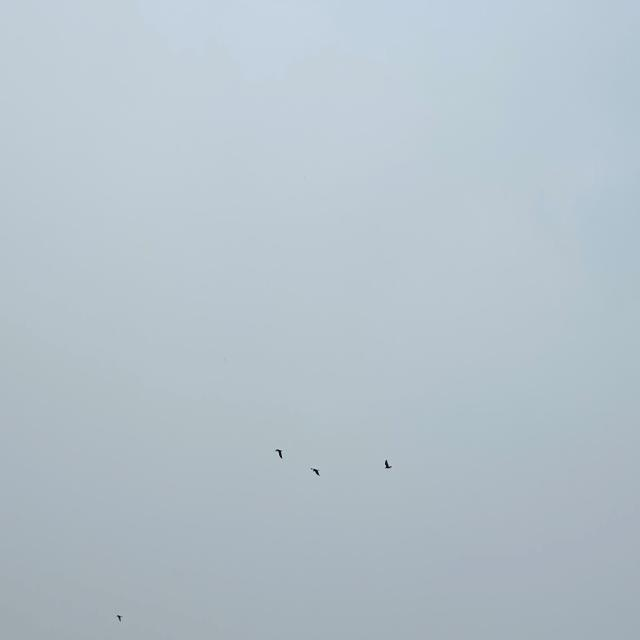bird: (379, 453, 398, 478), (273, 442, 289, 467), (112, 608, 128, 630), (310, 459, 324, 482)
